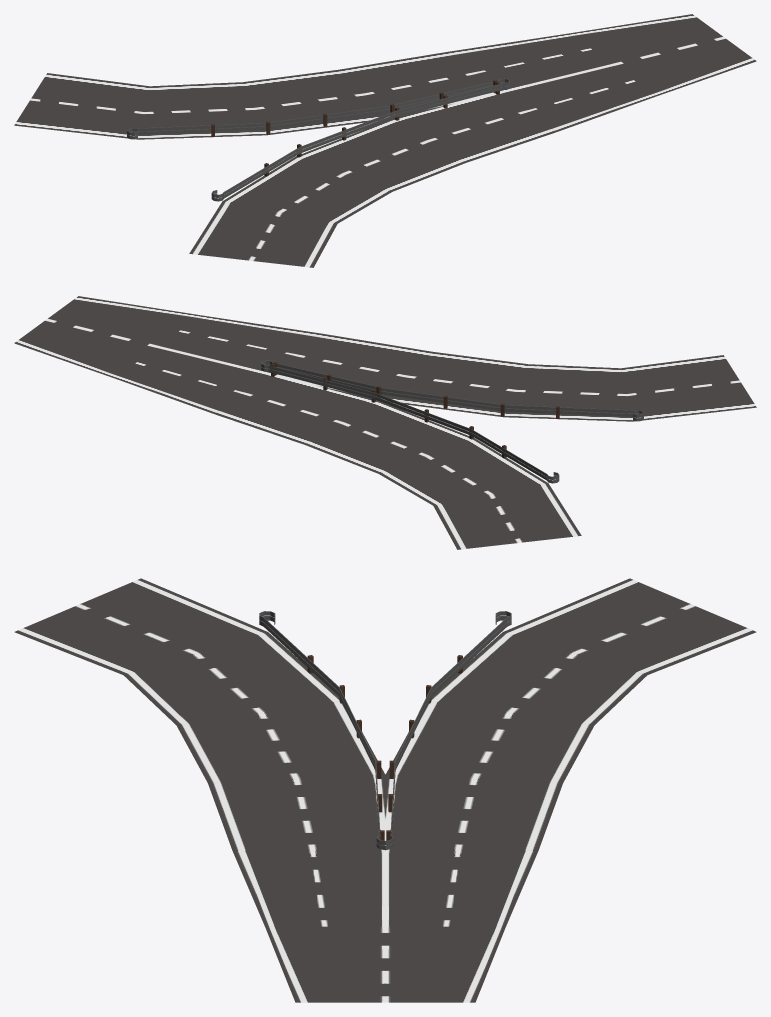
The model's file is road_branch.fbx.
The picture shows the model from 3 angles, top to bottom: view 1: azimuth 30°, elevation 25°; view 2: azimuth 150°, elevation 25°; view 3: azimuth 270°, elevation 25°; orthographic projection. The views are drawn at different scales.
Parts seen in each view (by area): view 1: roadBranch, gaurdRail_01, guardPoles_01; view 2: roadBranch, gaurdRail_01, guardPoles_01; view 3: roadBranch, gaurdRail_01, guardPoles_01.
Part boxes in pixels (box(x1,y1,x2,y2)): roadBranch: box(14, 14, 756, 267); gaurdRail_01: box(127, 78, 509, 201); guardPoles_01: box(211, 80, 499, 176); roadBranch: box(14, 296, 756, 549); gaurdRail_01: box(261, 360, 643, 483); guardPoles_01: box(271, 362, 559, 458); roadBranch: box(14, 578, 756, 1002); gaurdRail_01: box(259, 611, 511, 850); guardPoles_01: box(307, 655, 462, 845).
Size of the model in its own units: 0.5585 by 0.01 by 0.4134.
